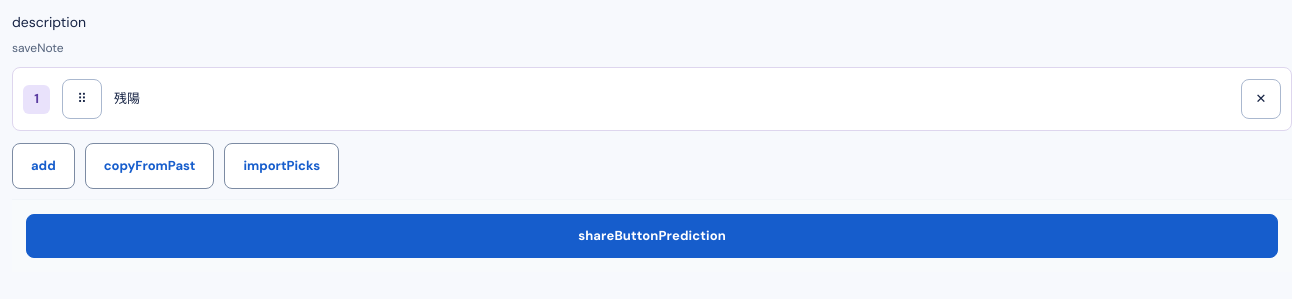
it: <PredictedSetlist> import my expected songs › nothing new to import: the list is untouched and the fan is told so
Click the button with test id "predict-import-picks" at (282, 166), box [224,143,339,189]
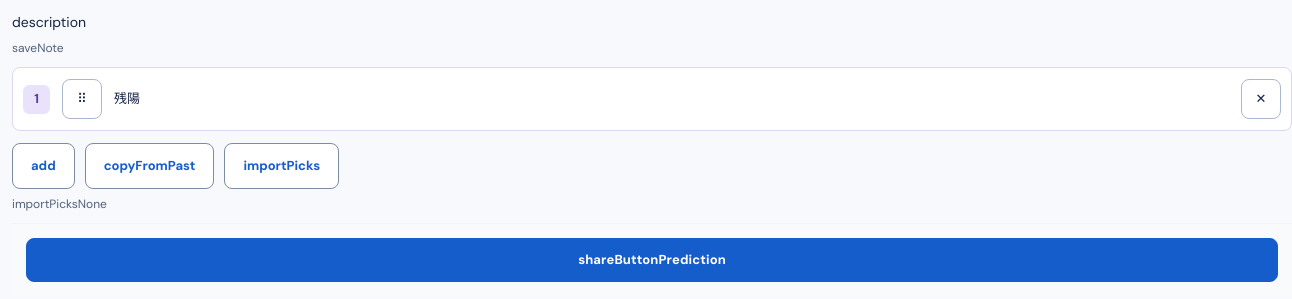
expect the message with test id "predict-import-note" reads "importPicksNone": met, box [12,196,107,212]
